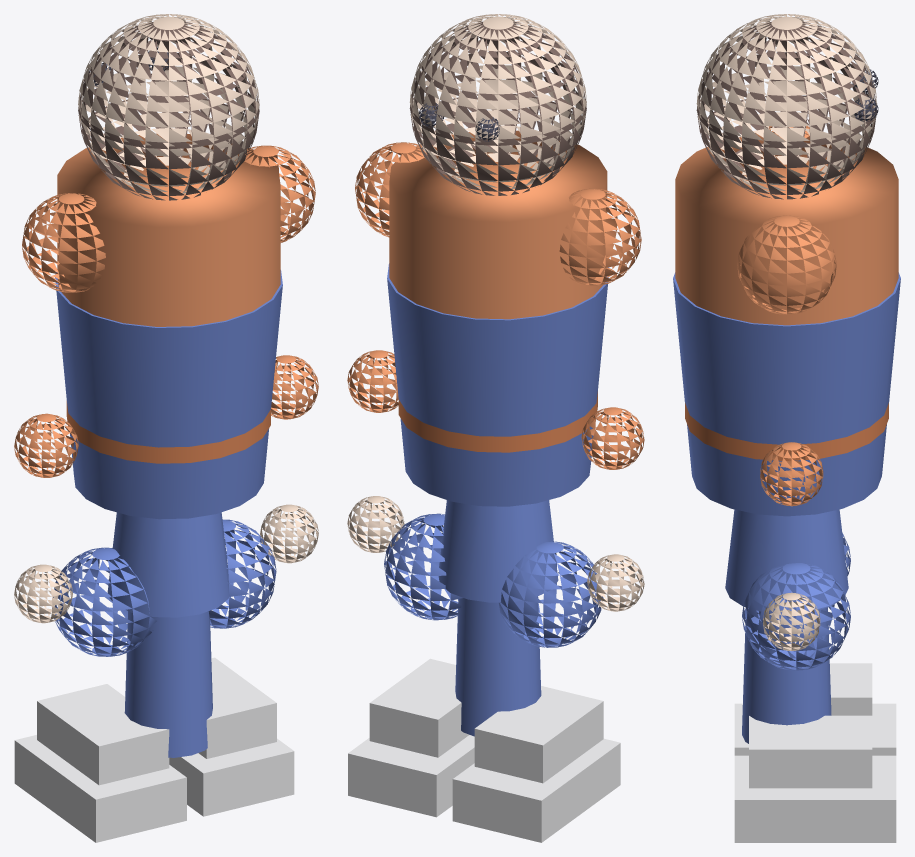
The model's file is player_idle.glb.
3 views of the same model, side by side, from view 1: azimuth 30°, elevation 25°; view 2: azimuth 150°, elevation 25°; view 3: azimuth 270°, elevation 25° (orthographic). The views are drawn at different scales.
Visible parts, largest first — view 1: PlayerRoot_5, PlayerRoot_3, PlayerRoot_6, PlayerRoot_0, PlayerRoot_1, PlayerRoot_4; view 2: PlayerRoot_5, PlayerRoot_3, PlayerRoot_6, PlayerRoot_0, PlayerRoot_1, PlayerRoot_4, PlayerRoot_2; view 3: PlayerRoot_5, PlayerRoot_3, PlayerRoot_6, PlayerRoot_0, PlayerRoot_1, PlayerRoot_4, PlayerRoot_2.
Boxes of the visible parts, x1,y1,x2,y2 form: PlayerRoot_5: (52, 270, 282, 757); PlayerRoot_3: (14, 133, 318, 477); PlayerRoot_6: (14, 657, 294, 842); PlayerRoot_0: (14, 14, 318, 623); PlayerRoot_1: (78, 21, 259, 200); PlayerRoot_4: (66, 401, 270, 463); PlayerRoot_5: (384, 263, 608, 736); PlayerRoot_3: (347, 130, 644, 469); PlayerRoot_6: (348, 658, 620, 842); PlayerRoot_0: (347, 14, 644, 611); PlayerRoot_1: (409, 21, 586, 195); PlayerRoot_4: (398, 391, 597, 452); PlayerRoot_2: (418, 103, 500, 141); PlayerRoot_5: (673, 272, 900, 743); PlayerRoot_3: (675, 126, 898, 506); PlayerRoot_6: (734, 663, 896, 842); PlayerRoot_0: (696, 14, 877, 651); PlayerRoot_1: (696, 22, 876, 199); PlayerRoot_4: (685, 403, 888, 460); PlayerRoot_2: (852, 68, 878, 121).
Bounding box in the file's own units: 0.718 × 1.79 × 0.48.
